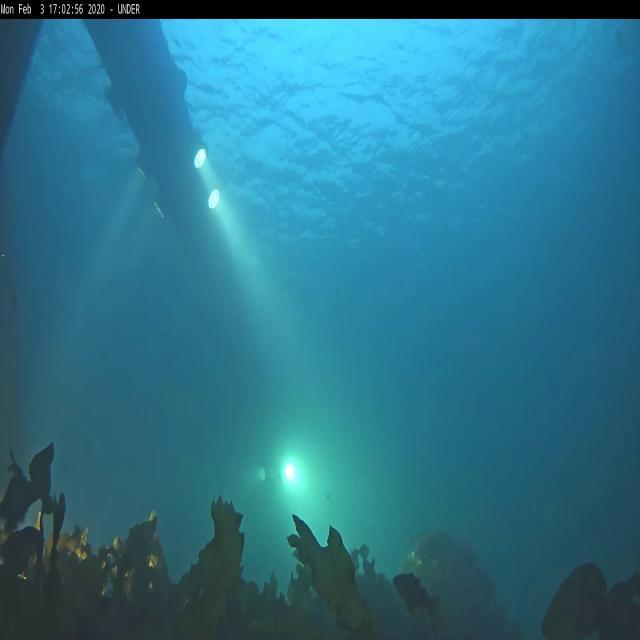fish: (394, 574, 442, 618)
